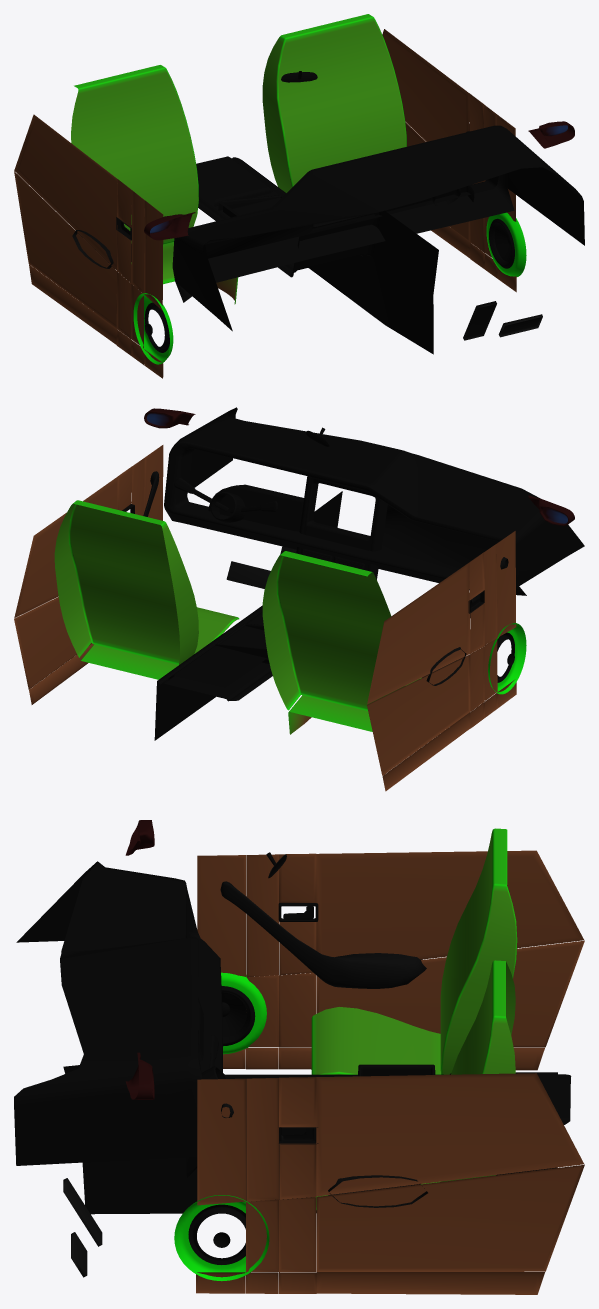
Rendered from Interior_V4.fbx.
3 renders of one model, top to bottom at view 1: azimuth 30°, elevation 25°; view 2: azimuth 150°, elevation 25°; view 3: azimuth 270°, elevation 25°, orthographic. The views are drawn at different scales.
Parts seen in each view (by area): view 1: interior_V4; view 2: interior_V4; view 3: interior_V4.
Part boxes in pixels (x1,y1,x2,y2): interior_V4: [14, 14, 584, 378]; interior_V4: [14, 407, 584, 791]; interior_V4: [14, 820, 584, 1294].
Bounding box in the file's own units: 198 × 111 × 177.
